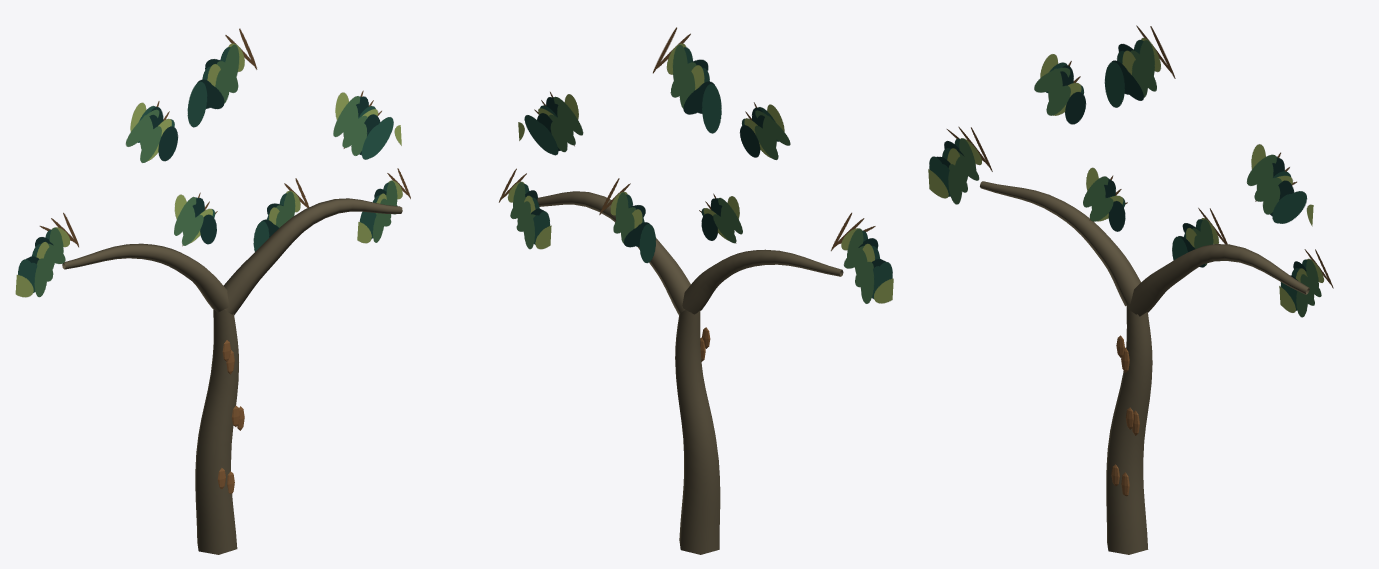
The model's file is TREE_EUCALYPTUS_001_LOD_MAP.glb.
The picture shows the model from 3 angles, left to right: view 1: azimuth 30°, elevation 25°; view 2: azimuth 150°, elevation 25°; view 3: azimuth 330°, elevation 25°; orthographic projection. The views are drawn at different scales.
Parts seen in each view (by area): view 1: GG_EUC_V4_MAIN_TRUNK, GG_EUC_V4_RIGHT_PRIMARY, GG_EUC_V4_LEFT_PRIMARY, GG_EUC_BODY_ISLAND_03_CLUSTER_00, GG_EUC_BODY_ISLAND_02_CLUSTER_00, GG_EUC_BODY_ISLAND_00_CLUSTER_00, GG_EUC_BODY_ISLAND_01_CLUSTER_00, GG_EUC_BODY_ISLAND_05_CLUSTER_00, GG_EUC_BODY_ISLAND_04_CLUSTER_00, GG_EUC_BODY_ISLAND_06_CLUSTER_00; view 2: GG_EUC_V4_MAIN_TRUNK, GG_EUC_BODY_ISLAND_02_CLUSTER_00, GG_EUC_V4_LEFT_PRIMARY, GG_EUC_BODY_ISLAND_00_CLUSTER_00, GG_EUC_BODY_ISLAND_03_CLUSTER_00, GG_EUC_V4_RIGHT_PRIMARY, GG_EUC_BODY_ISLAND_06_CLUSTER_00, GG_EUC_BODY_ISLAND_04_CLUSTER_00, GG_EUC_BODY_ISLAND_01_CLUSTER_00, GG_EUC_BODY_ISLAND_05_CLUSTER_00; view 3: GG_EUC_V4_MAIN_TRUNK, GG_EUC_V4_RIGHT_PRIMARY, GG_EUC_V4_LEFT_PRIMARY, GG_EUC_BODY_ISLAND_02_CLUSTER_00, GG_EUC_BODY_ISLAND_03_CLUSTER_00, GG_EUC_BODY_ISLAND_00_CLUSTER_00, GG_EUC_BODY_ISLAND_01_CLUSTER_00, GG_EUC_BODY_ISLAND_05_CLUSTER_00, GG_EUC_BODY_ISLAND_04_CLUSTER_00, GG_EUC_BODY_ISLAND_06_CLUSTER_00.
Part boxes in pixels (x1,y1,x2,y2): GG_EUC_V4_MAIN_TRUNK: [195, 309, 238, 554]; GG_EUC_V4_RIGHT_PRIMARY: [223, 198, 402, 315]; GG_EUC_V4_LEFT_PRIMARY: [62, 243, 228, 312]; GG_EUC_BODY_ISLAND_03_CLUSTER_00: [333, 90, 401, 159]; GG_EUC_BODY_ISLAND_02_CLUSTER_00: [187, 28, 257, 127]; GG_EUC_BODY_ISLAND_00_CLUSTER_00: [15, 212, 78, 297]; GG_EUC_BODY_ISLAND_01_CLUSTER_00: [125, 101, 178, 162]; GG_EUC_BODY_ISLAND_05_CLUSTER_00: [174, 192, 217, 246]; GG_EUC_BODY_ISLAND_04_CLUSTER_00: [357, 168, 410, 243]; GG_EUC_BODY_ISLAND_06_CLUSTER_00: [253, 178, 308, 251]; GG_EUC_V4_MAIN_TRUNK: [675, 310, 720, 554]; GG_EUC_BODY_ISLAND_02_CLUSTER_00: [653, 27, 721, 133]; GG_EUC_V4_LEFT_PRIMARY: [682, 249, 843, 314]; GG_EUC_BODY_ISLAND_00_CLUSTER_00: [831, 212, 893, 303]; GG_EUC_BODY_ISLAND_03_CLUSTER_00: [518, 92, 583, 155]; GG_EUC_V4_RIGHT_PRIMARY: [537, 191, 690, 314]; GG_EUC_BODY_ISLAND_06_CLUSTER_00: [599, 178, 655, 263]; GG_EUC_BODY_ISLAND_04_CLUSTER_00: [499, 168, 551, 249]; GG_EUC_BODY_ISLAND_01_CLUSTER_00: [739, 102, 790, 159]; GG_EUC_BODY_ISLAND_05_CLUSTER_00: [699, 193, 742, 243]; GG_EUC_V4_MAIN_TRUNK: [1106, 305, 1152, 554]; GG_EUC_V4_RIGHT_PRIMARY: [1127, 244, 1309, 316]; GG_EUC_V4_LEFT_PRIMARY: [980, 181, 1141, 306]; GG_EUC_BODY_ISLAND_02_CLUSTER_00: [1104, 25, 1175, 107]; GG_EUC_BODY_ISLAND_03_CLUSTER_00: [1246, 144, 1313, 226]; GG_EUC_BODY_ISLAND_00_CLUSTER_00: [928, 126, 992, 204]; GG_EUC_BODY_ISLAND_01_CLUSTER_00: [1034, 54, 1086, 124]; GG_EUC_BODY_ISLAND_05_CLUSTER_00: [1083, 167, 1127, 231]; GG_EUC_BODY_ISLAND_04_CLUSTER_00: [1279, 249, 1333, 317]; GG_EUC_BODY_ISLAND_06_CLUSTER_00: [1172, 208, 1227, 267].
Bounding box in the file's own units: 5.99 × 6.95 × 0.4937.
Materials: 3 (1 with a texture image).
